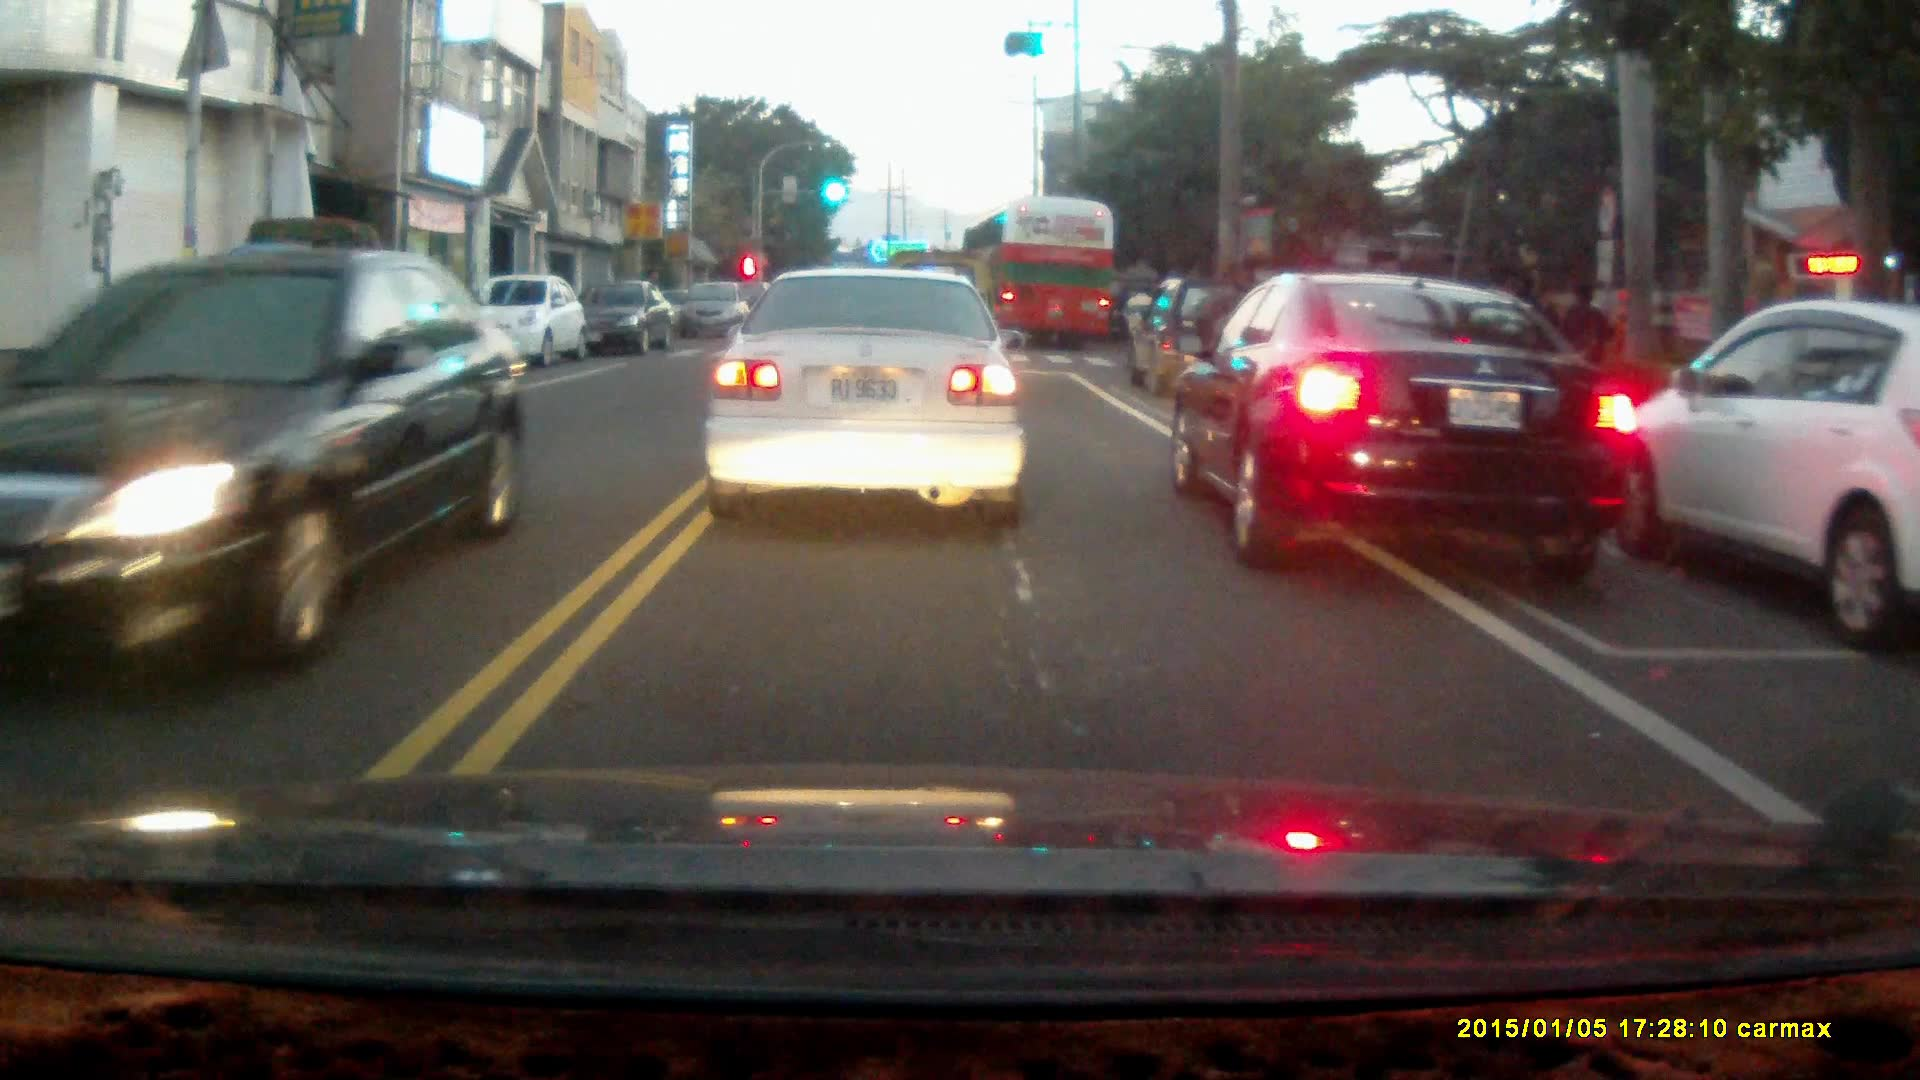pedestrian: (1558, 277, 1612, 409)
vehicle: (1, 248, 534, 710), (1169, 274, 1645, 572), (1592, 296, 1920, 620), (703, 264, 1029, 529), (194, 216, 431, 406), (962, 203, 1115, 356), (1131, 279, 1285, 401), (454, 277, 593, 376), (571, 277, 679, 361), (679, 284, 755, 343)
